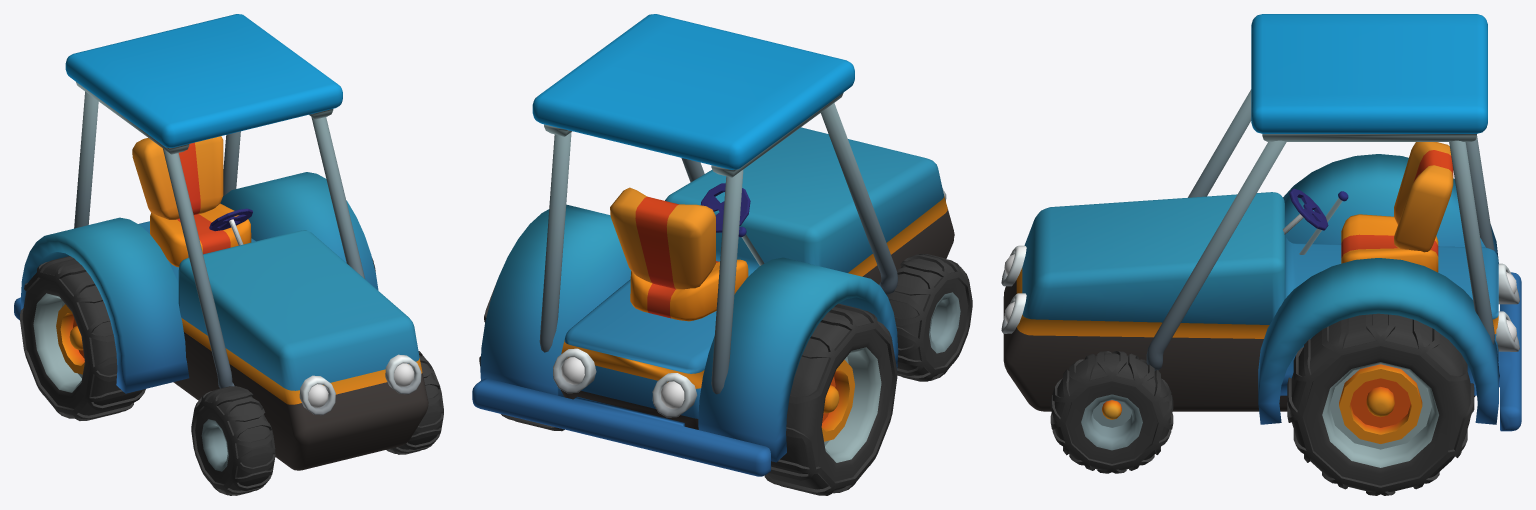
File: TractorBlue.fbx
The picture shows the model from 3 angles, left to right: view 1: azimuth 30°, elevation 25°; view 2: azimuth 150°, elevation 25°; view 3: azimuth 270°, elevation 25°; orthographic projection. The views are drawn at different scales.
Parts seen in each view (by area): view 1: Tractor.001, TractorRearWheels.001, TractorFRWheel.001, TractorFLWheel.001; view 2: Tractor.001, TractorRearWheels.001, TractorFRWheel.001; view 3: Tractor.001, TractorRearWheels.001, TractorFLWheel.001.
Boxes of the visible parts, x1,y1,x2,y2 form: Tractor.001: (14, 14, 428, 470); TractorRearWheels.001: (20, 256, 375, 420); TractorFRWheel.001: (191, 386, 275, 495); TractorFLWheel.001: (386, 351, 443, 454); Tractor.001: (472, 14, 954, 476); TractorRearWheels.001: (479, 282, 897, 495); TractorFRWheel.001: (887, 254, 972, 381); Tractor.001: (1001, 14, 1521, 431); TractorRearWheels.001: (1287, 313, 1474, 495); TractorFLWheel.001: (1050, 351, 1173, 473).
Bounding box in the file's own units: 0.9872 × 1.04 × 1.36.
